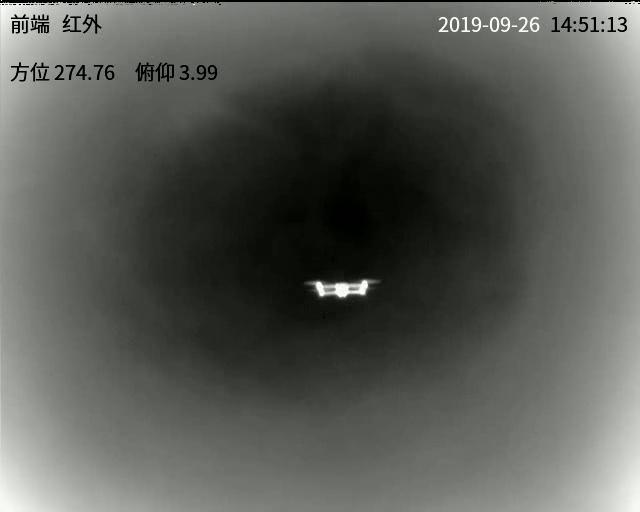DRONE: (308, 279, 374, 298)
